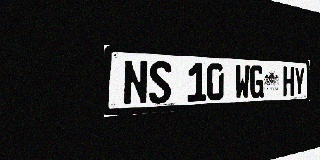0: (207, 63, 224, 101)
1: (187, 62, 206, 102)
G: (250, 65, 264, 98)
H: (283, 66, 294, 97)
N: (123, 59, 148, 106)
S: (149, 60, 171, 104)
W: (235, 64, 250, 99)
Y: (294, 67, 305, 96)
